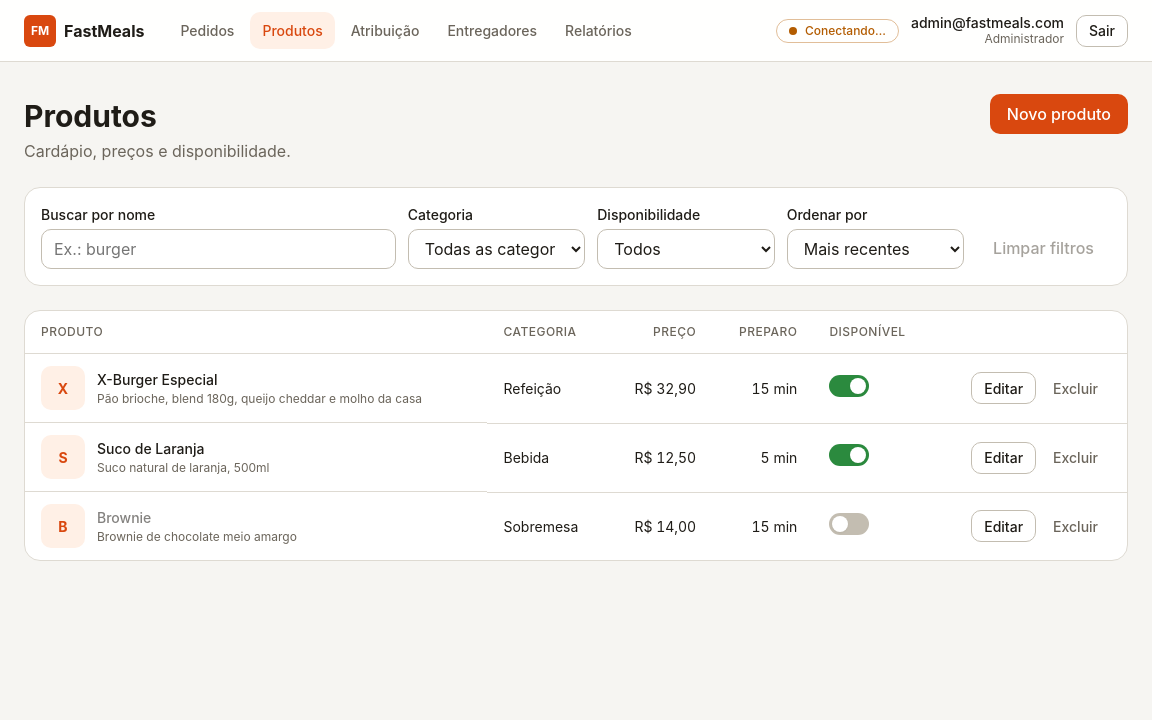
Tela de produtos › cria um produto com validação em tempo real
Click the button "Novo produto".
click(1059, 114)  # box [990, 94, 1128, 134]
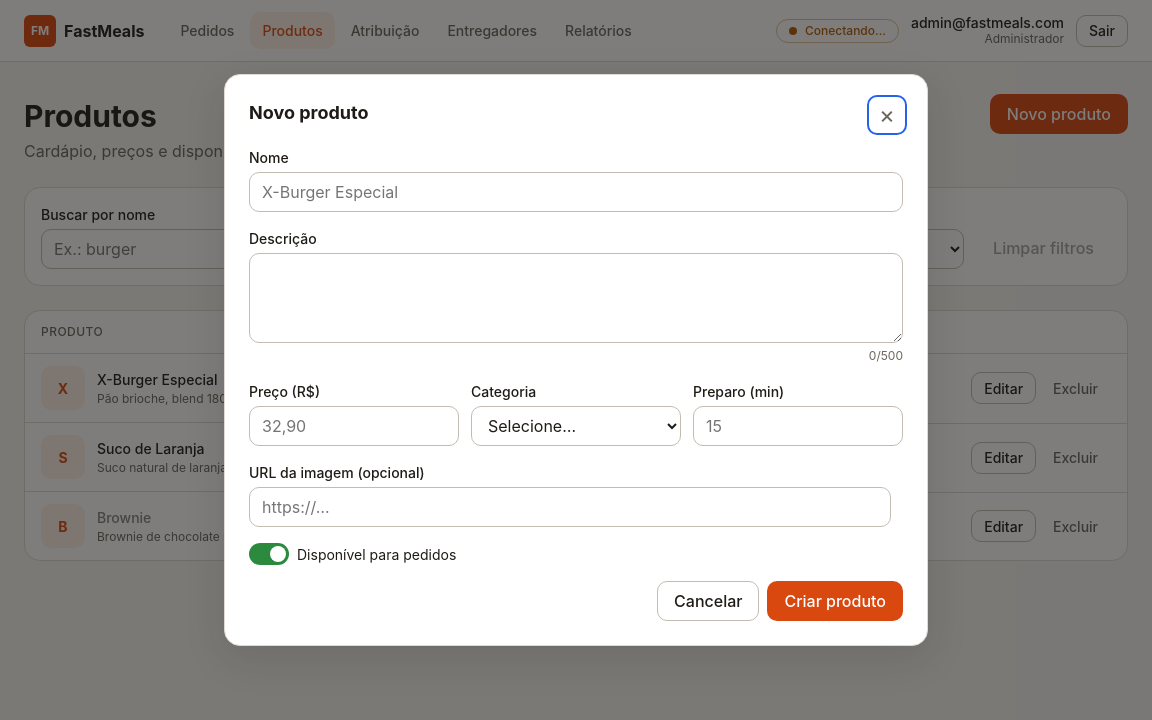
Type "Batata Frita" into the field labelled "Nome".
click(576, 192); type("Batata Frita")  # box [249, 172, 903, 212]
Type "Porção de batata frita crocante" into the text box labelled "Descrição".
click(576, 298); type("Porção de batata frita crocante")  # box [249, 253, 903, 343]
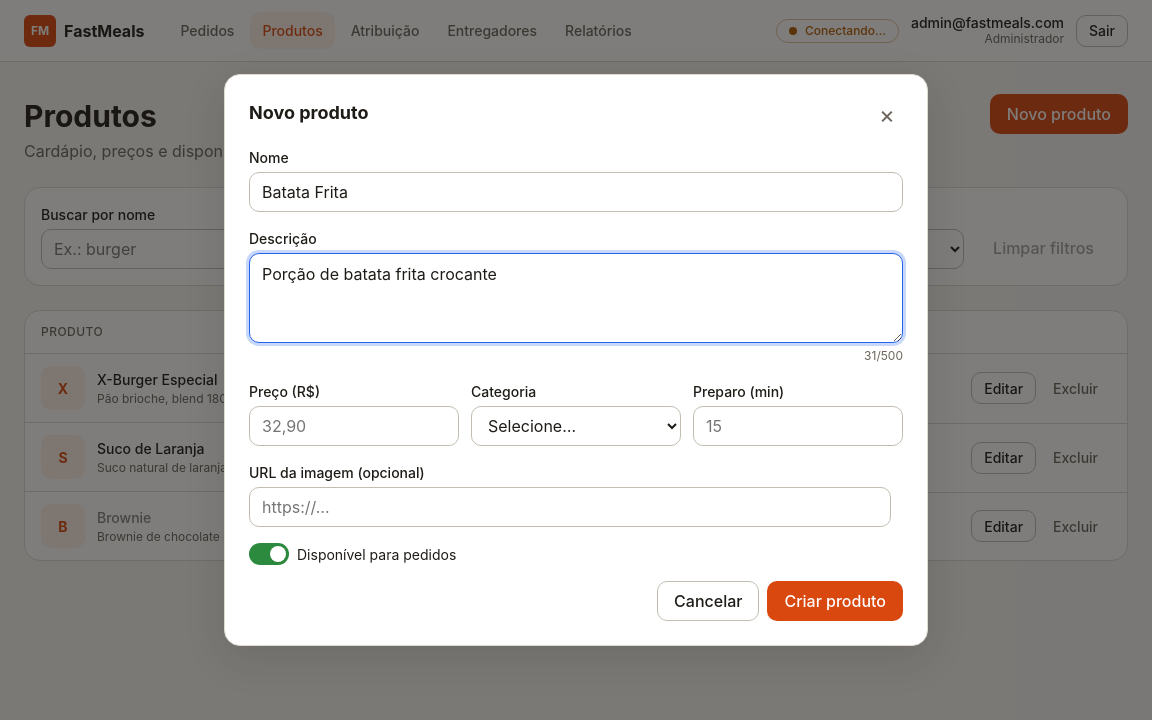
Type "16,5" into the field labelled "Preço (R$)".
click(354, 426); type("16,5")  # box [249, 406, 459, 446]
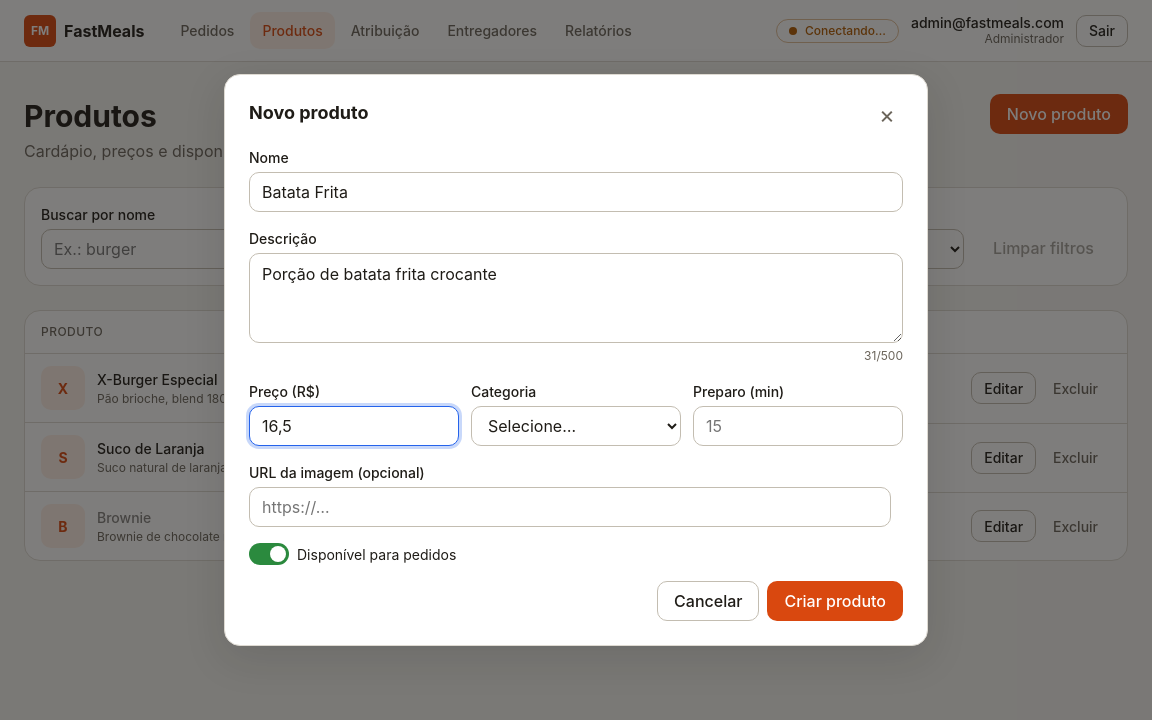
Select "Acompanhamento" in the dropdown labelled "Categoria" at [576, 426], box [471, 406, 681, 446]
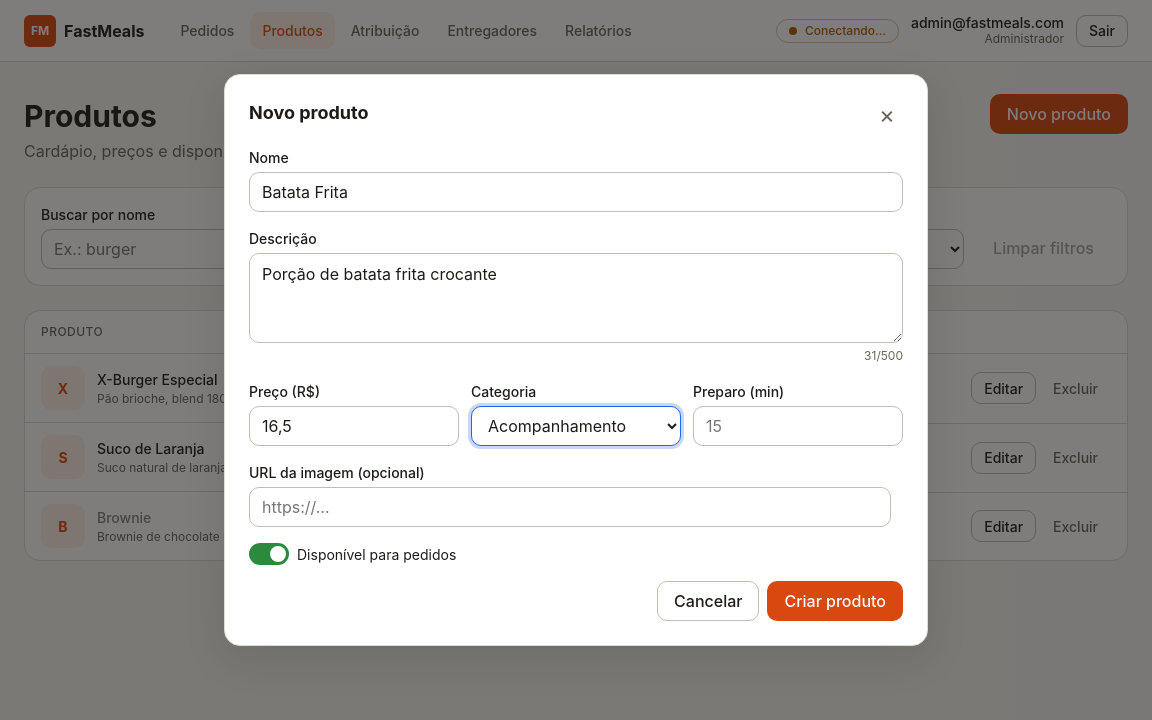
Type "10" into the number field labelled "Preparo (min)".
click(798, 426); type("10")  # box [693, 406, 903, 446]
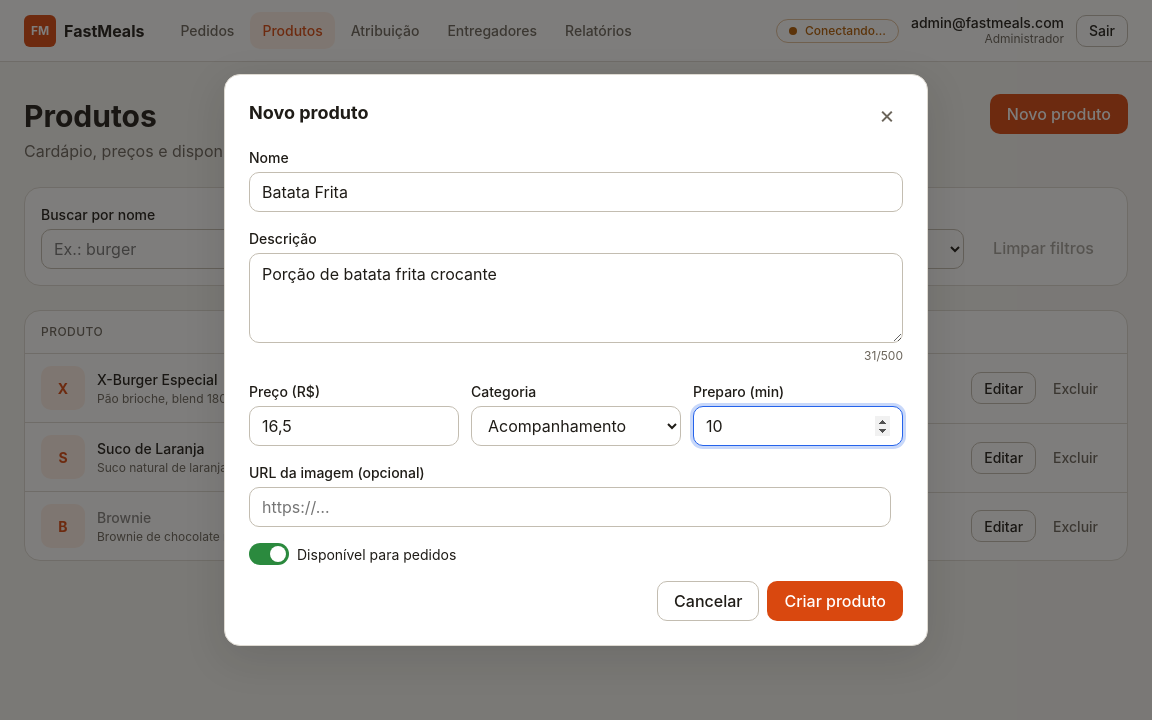
Click the button "Criar produto".
click(835, 601)  # box [768, 581, 903, 621]
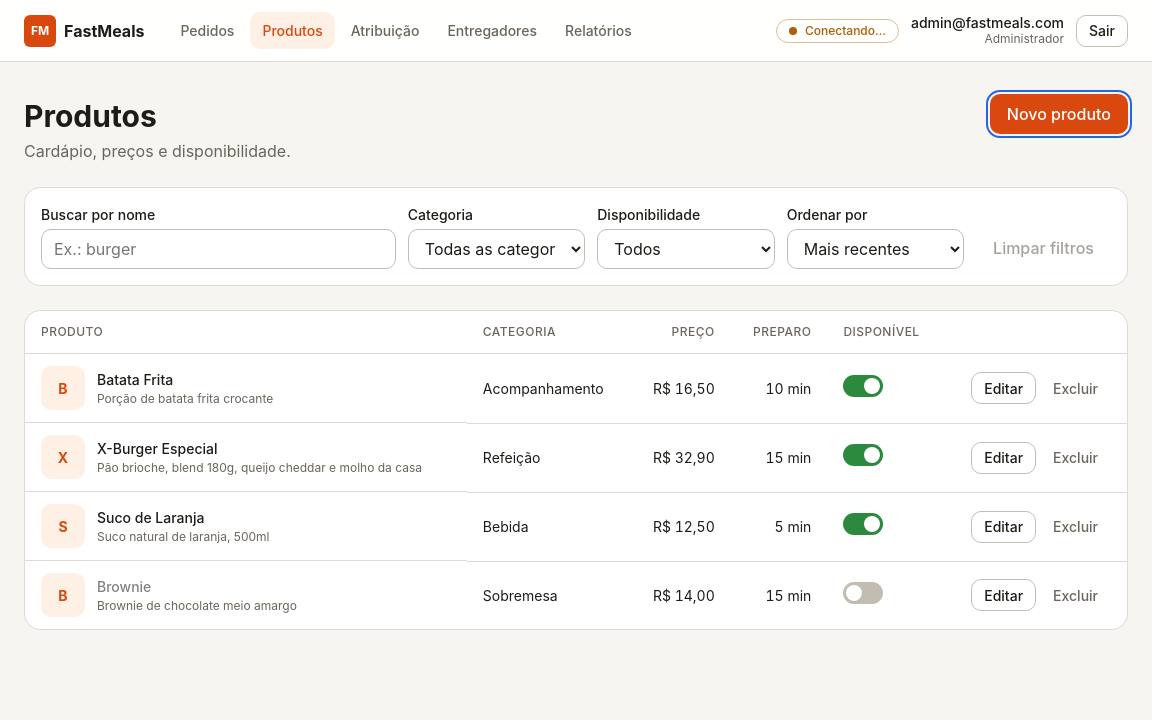
Expected: the dialog is gone
